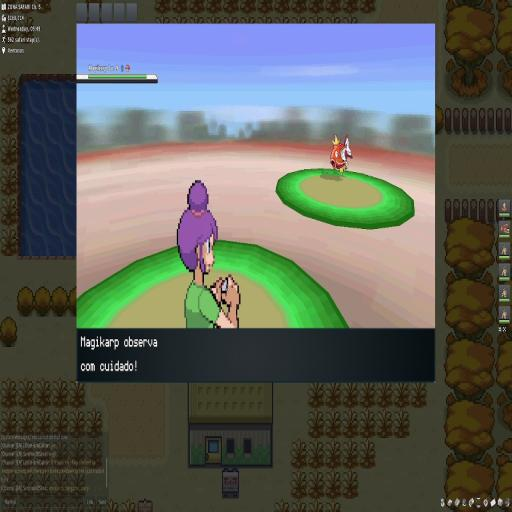MAGIKARP: (330, 135, 354, 177)
